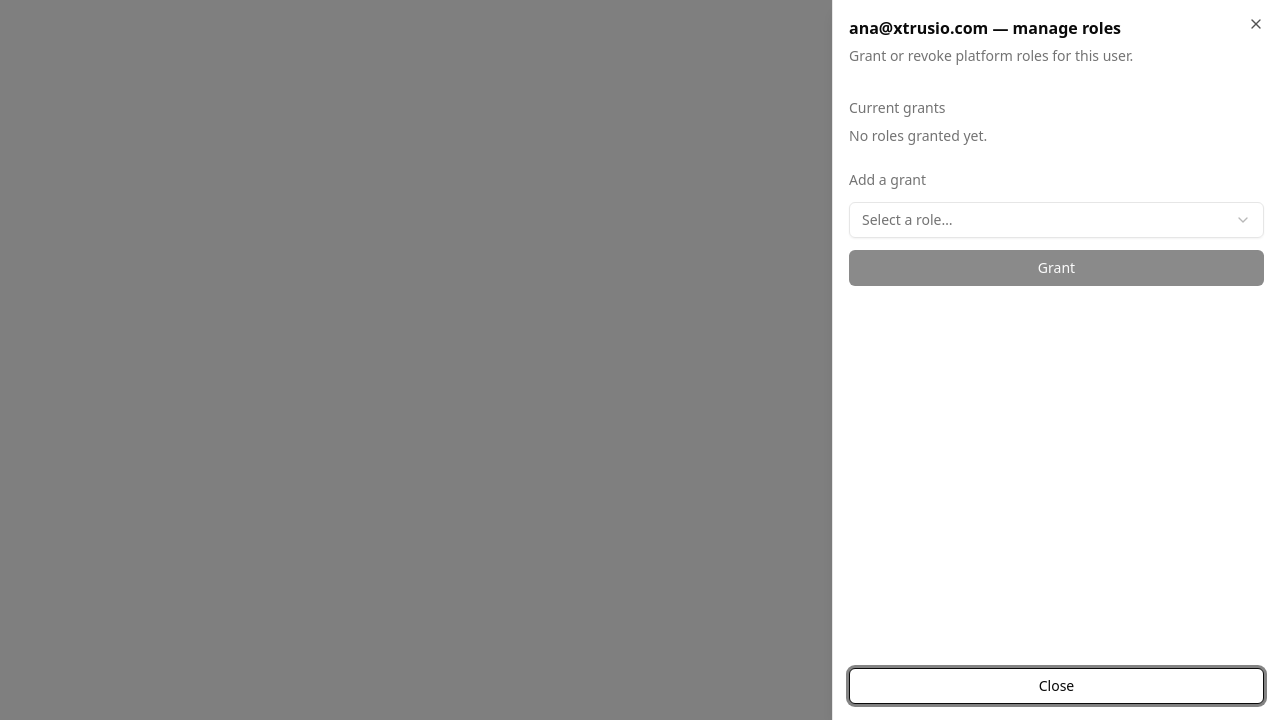
Test: <GrantManagerDialog scope='platform' /> › renders the single-super-admin error inline when grant returns 409
Step 1. Click the dropdown labelled "Select a role…" → (907, 220), box x1=849 y1=202 x2=1264 y2=238
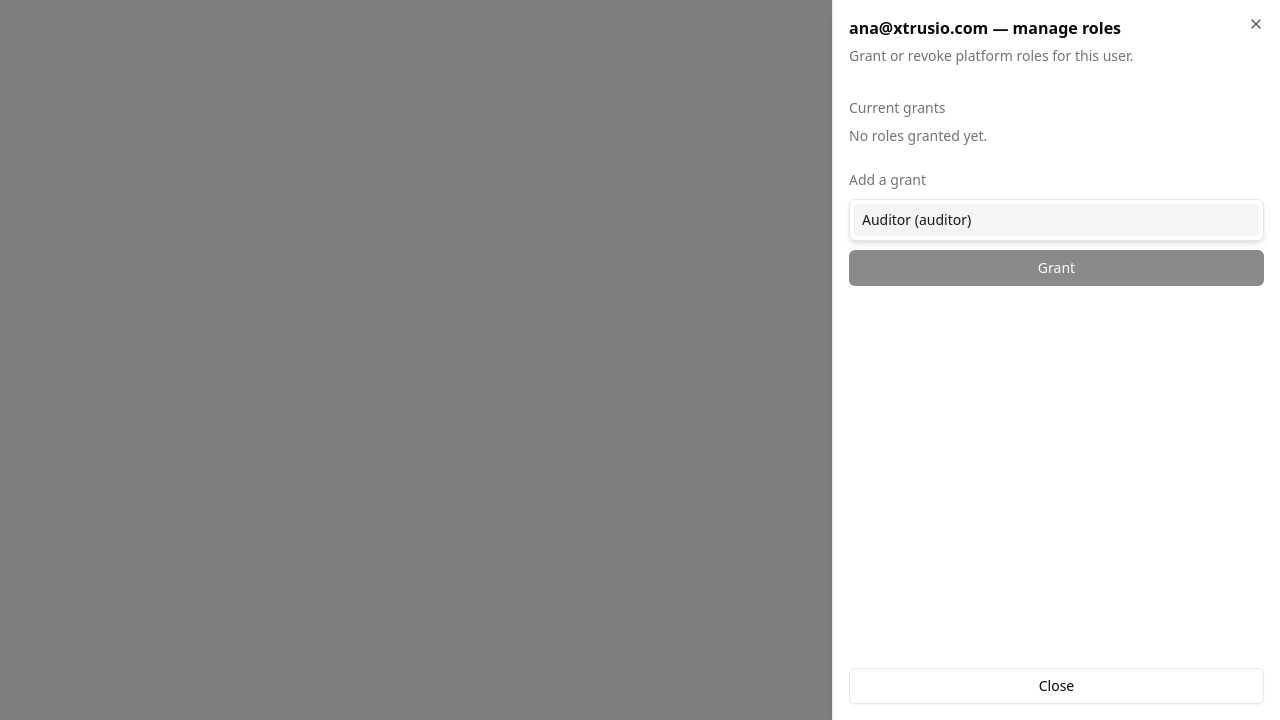
Step 2. Click the option "Auditor (auditor)" → (917, 220), box x1=854 y1=204 x2=1259 y2=236
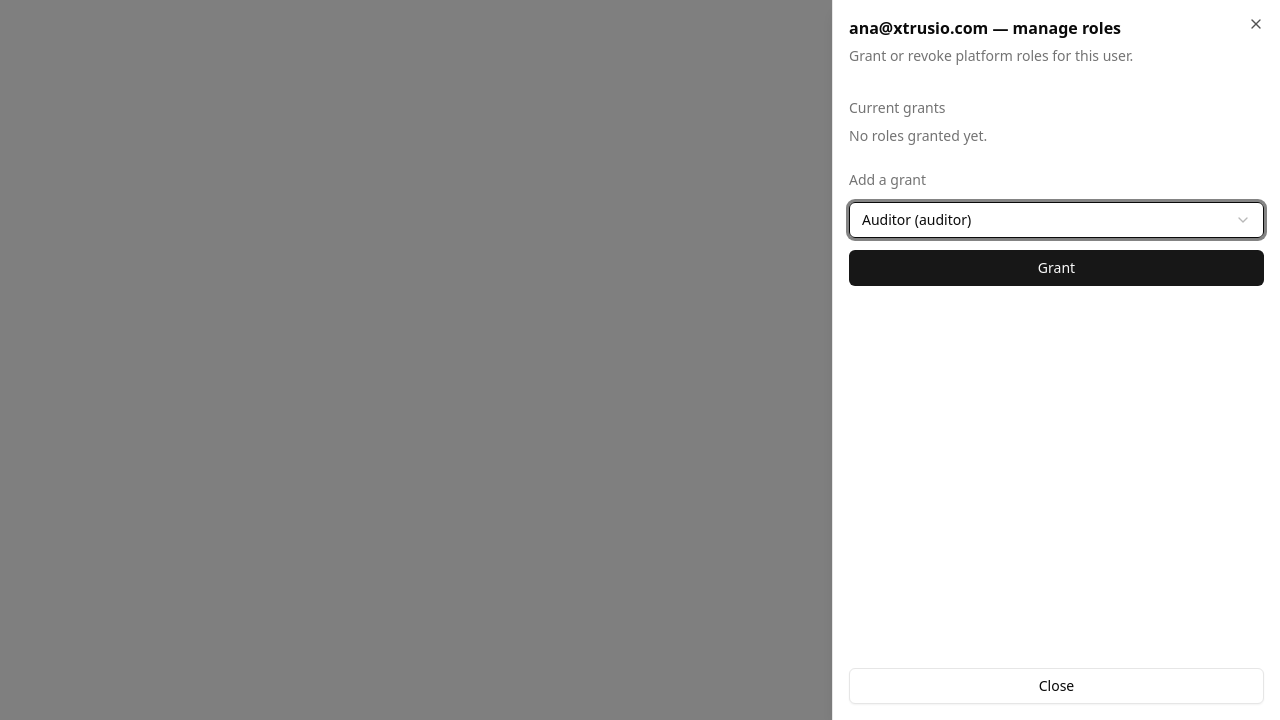
Step 3. Click the button "Grant" → (1056, 268), box x1=849 y1=250 x2=1264 y2=286
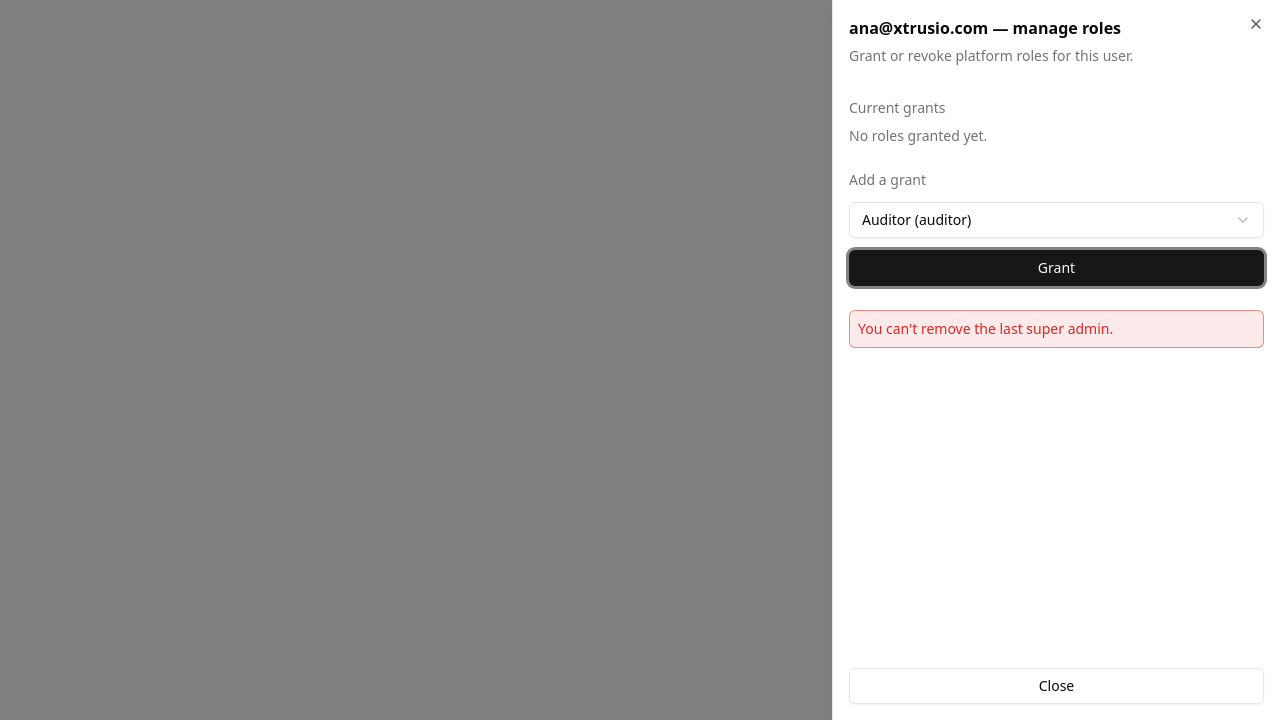
Check: the text "You can't remove the last super admin." is shown, box x1=849 y1=310 x2=1264 y2=348
